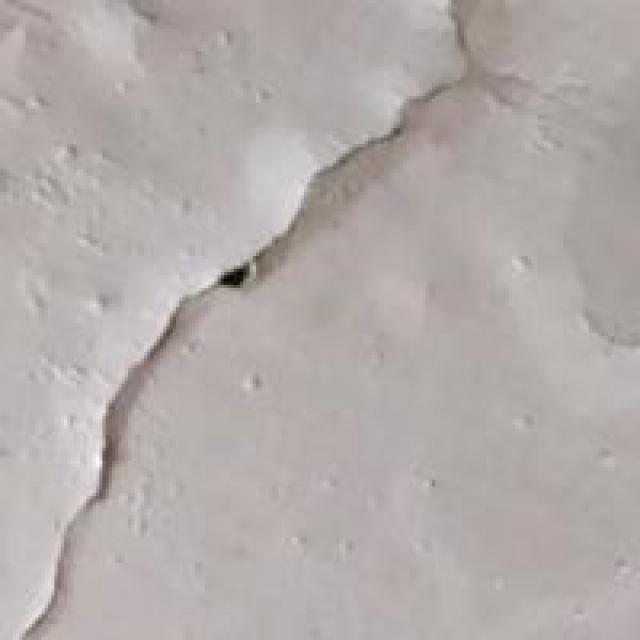crack: (28, 67, 490, 637)
